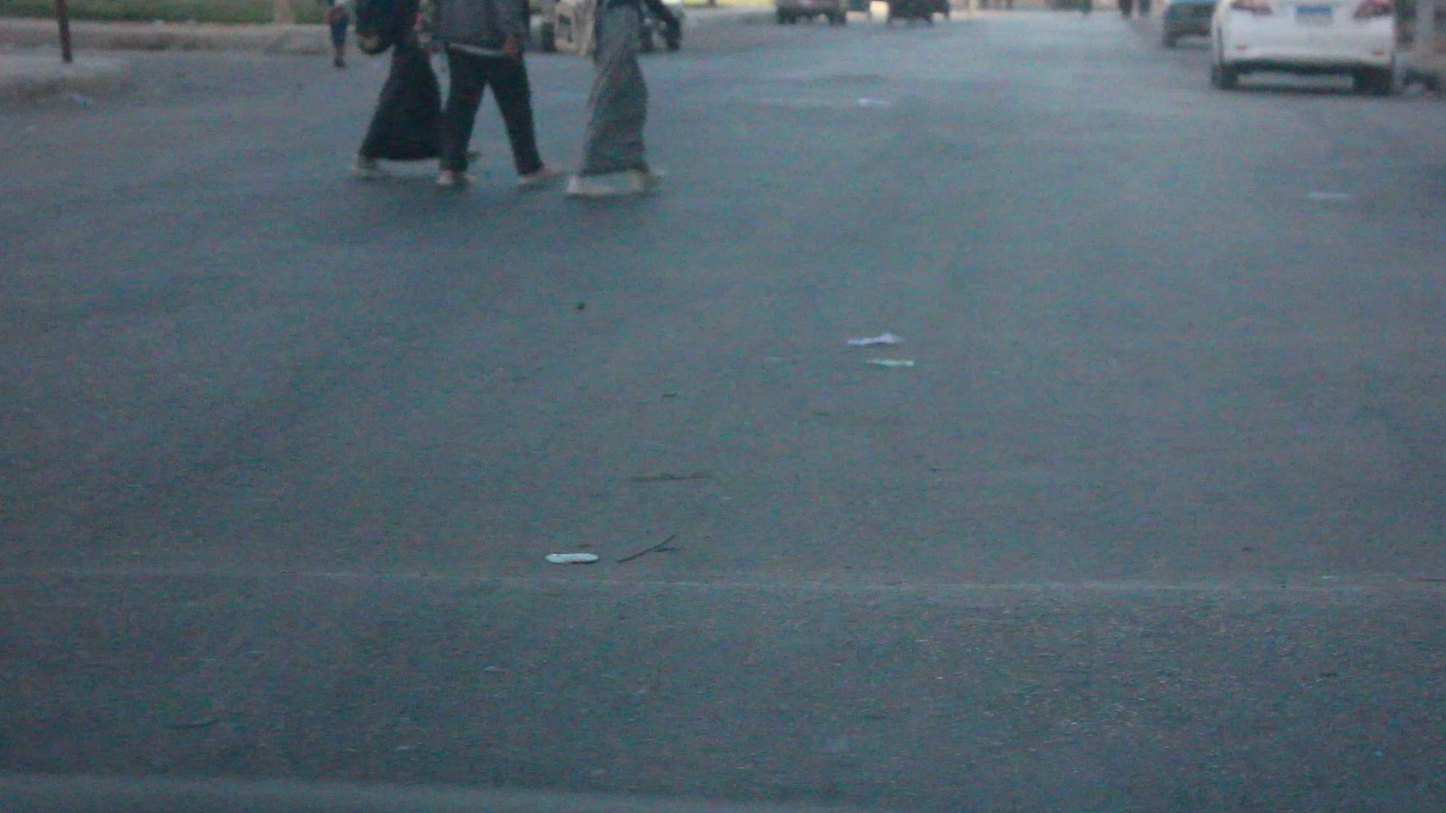Bump: (0, 546, 1446, 813)
